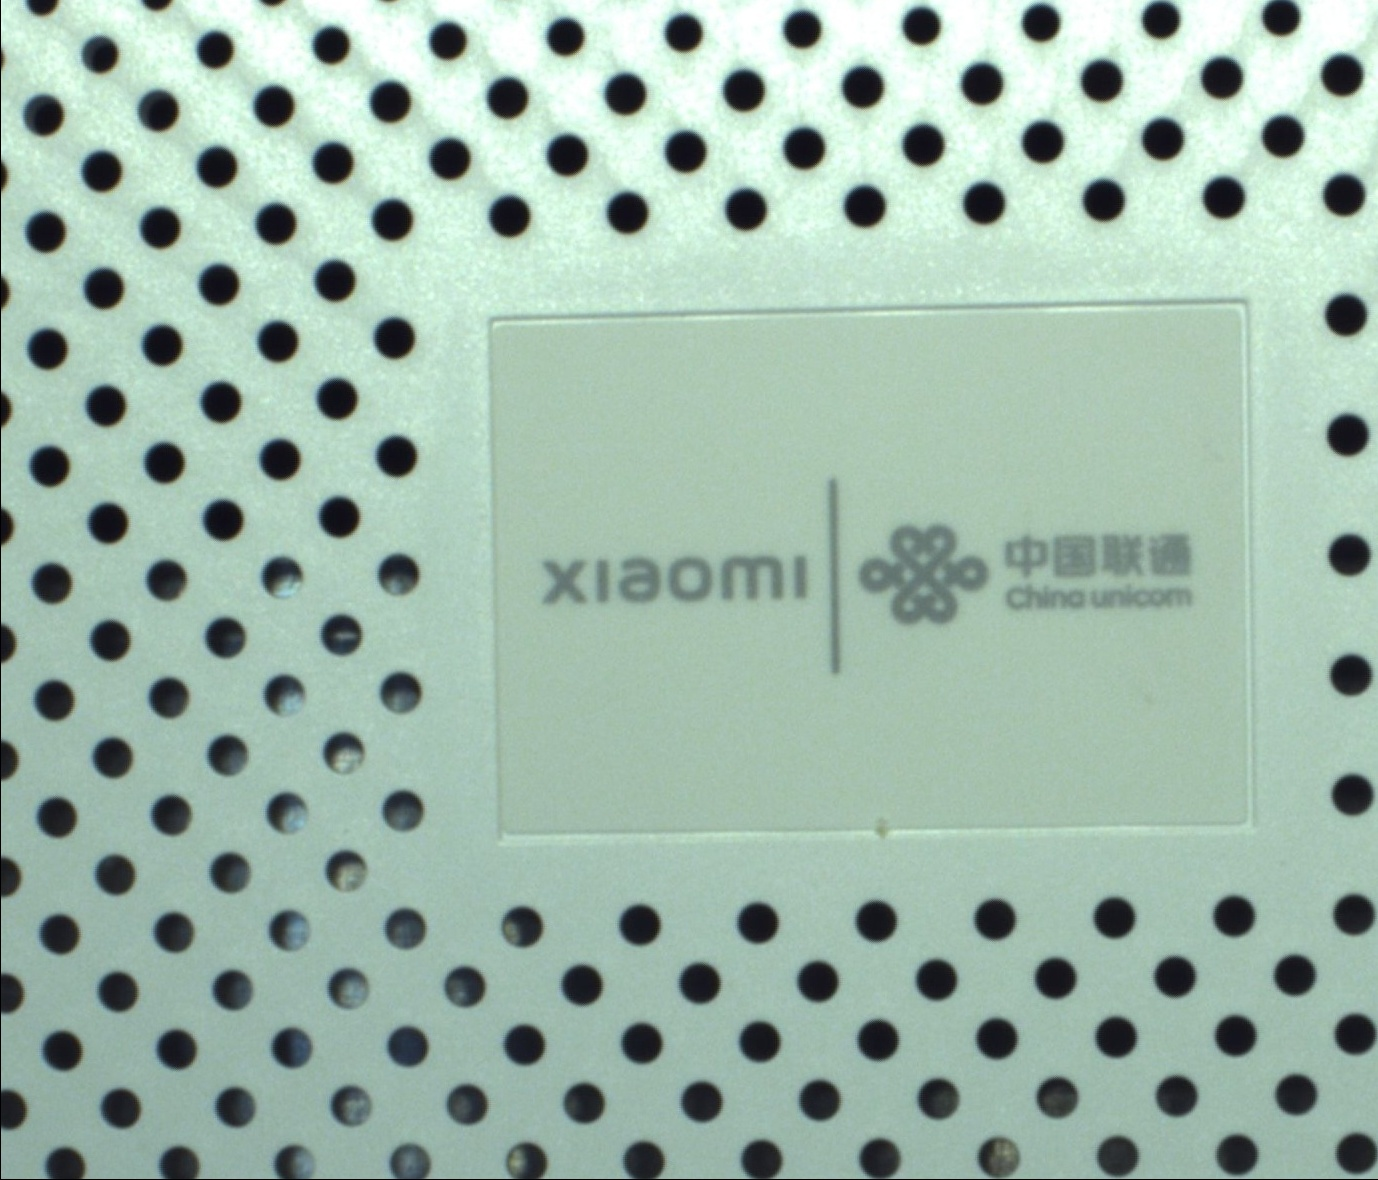MAC_NewUnicom: (527, 478, 1204, 681)
